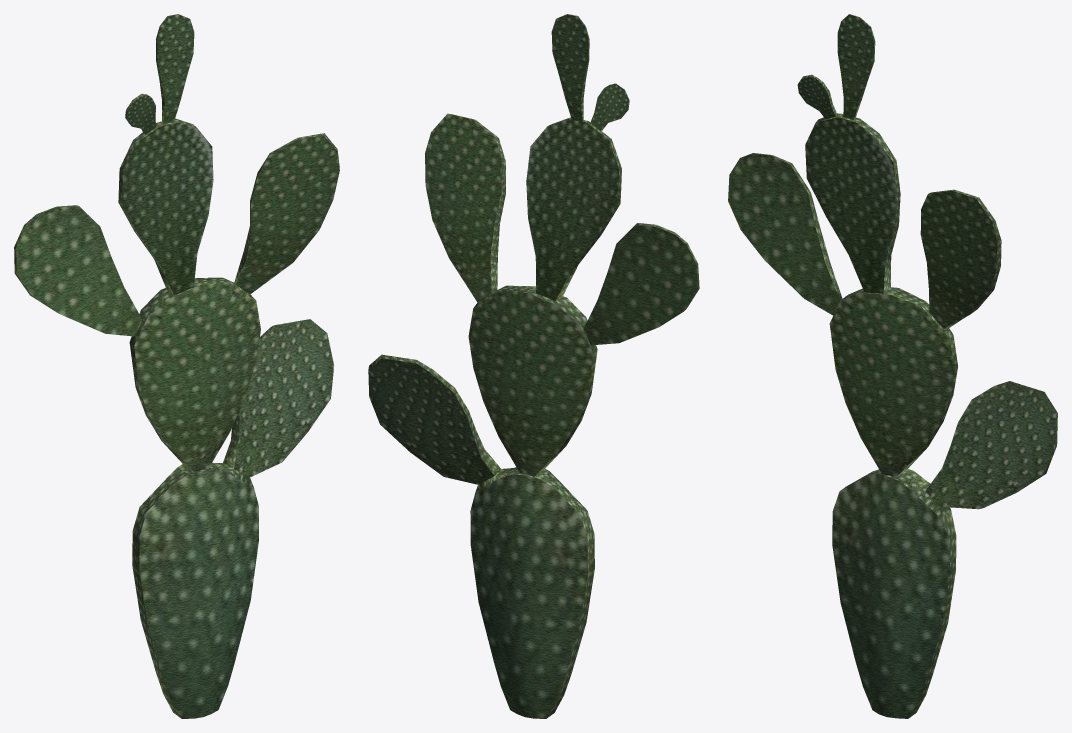
Rendered from Prickly_Pear_1.FBX.
3 views of the same model, side by side, from view 1: azimuth 30°, elevation 25°; view 2: azimuth 150°, elevation 25°; view 3: azimuth 330°, elevation 25° (orthographic). The views are drawn at different scales.
Visible parts, largest first — view 1: Prickly_Pear_1; view 2: Prickly_Pear_1; view 3: Prickly_Pear_1.
Boxes of the visible parts, left/top/right/bottom form: Prickly_Pear_1: left=14, top=14, right=339, bottom=718; Prickly_Pear_1: left=368, top=14, right=699, bottom=718; Prickly_Pear_1: left=728, top=14, right=1057, bottom=718.
Size of the model in its own units: 42.15 by 87.77 by 9.75.
